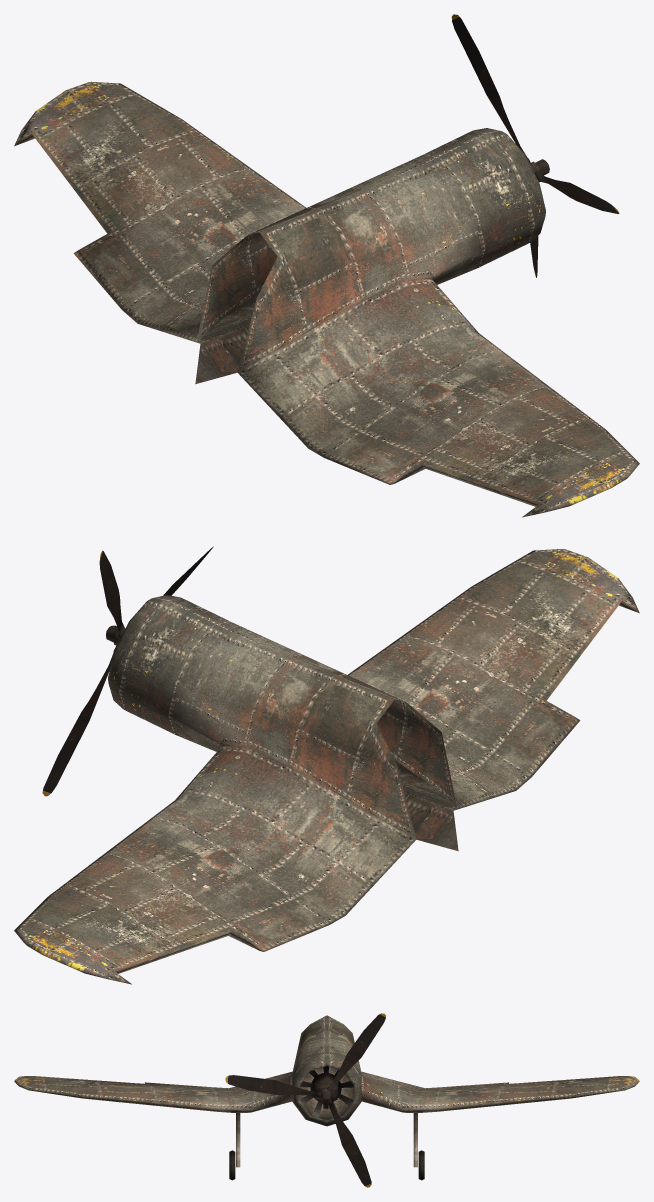
3 views of the same model, one above another, from view 1: azimuth 30°, elevation 25°; view 2: azimuth 150°, elevation 25°; view 3: azimuth 270°, elevation 25° (orthographic). The views are drawn at different scales.
Visible parts, largest first — view 1: Plane1; view 2: Plane1; view 3: Plane1.
Boxes of the visible parts, x1,y1,x2,y2 form: Plane1: (14,14,639,517); Plane1: (14,546,639,984); Plane1: (14,1013,639,1187).
Bounding box in the file's own units: 30.2 × 25.48 × 75.38.
Materials: 1 (1 with a texture image).
